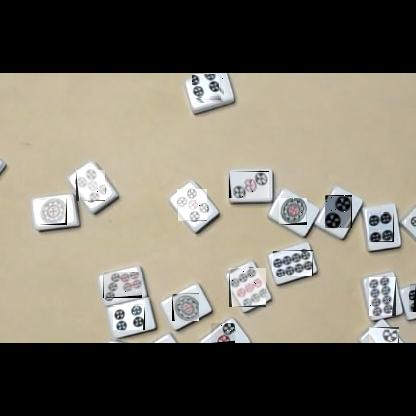1p: (279, 198, 307, 225), (172, 293, 199, 321), (40, 198, 67, 225)
2p: (325, 195, 352, 228), (369, 327, 399, 343)
3p: (229, 171, 269, 198), (211, 323, 235, 343)
4p: (193, 75, 224, 103), (113, 305, 145, 330), (369, 212, 394, 242)
5p: (177, 189, 207, 221), (76, 170, 105, 201), (409, 284, 416, 312)
7p: (103, 272, 142, 298)
8p: (272, 250, 313, 276), (369, 277, 396, 316)
9p: (229, 268, 266, 307)
